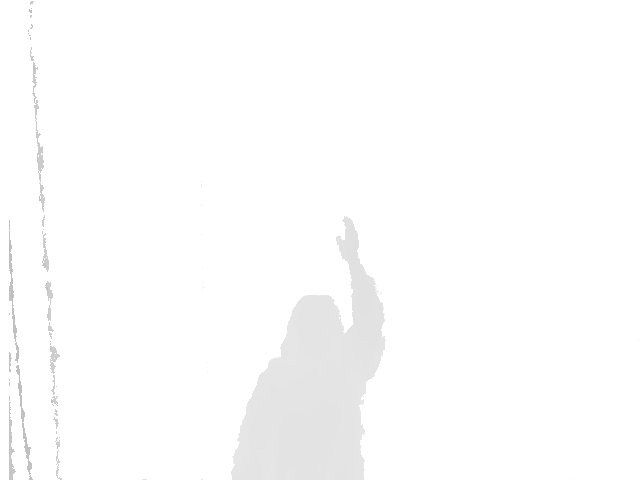hand: (337, 213, 360, 264)
head: (279, 292, 346, 366)
person: (228, 215, 388, 480)
